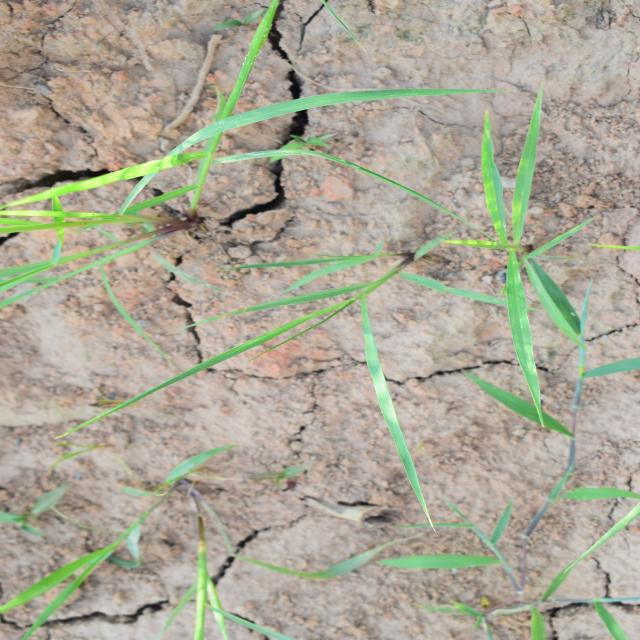green_foxtail: (142, 135, 420, 455), (271, 453, 510, 572)
